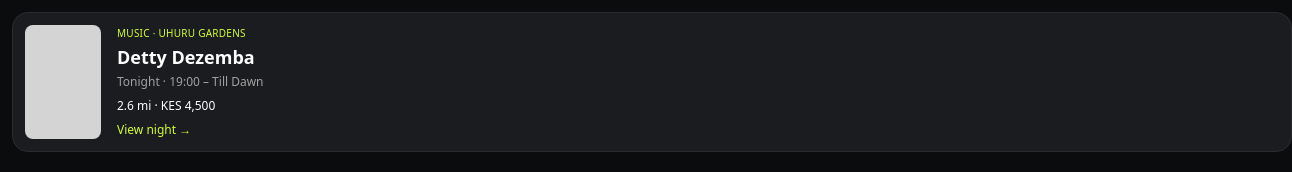
Test: NightCard › View night opens Discover on that night without selecting the card
Click the button "View night →".
click(190, 130)  # box [117,122,264,138]
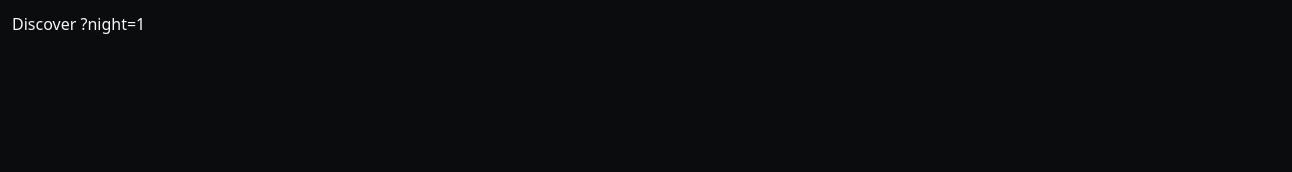
expect the text "Discover ?night=1" is shown: met, box [12,13,145,35]
